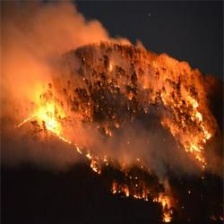fire: (12, 91, 95, 161), (161, 94, 220, 161), (122, 188, 173, 221)
